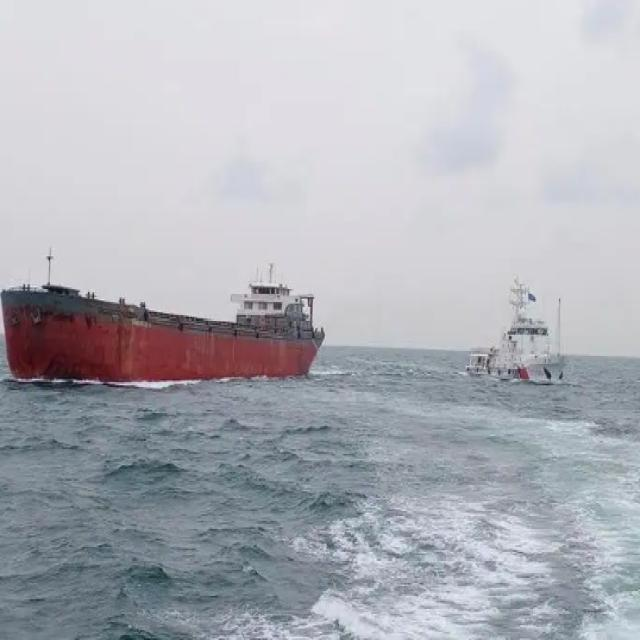cargoship: (0, 263, 326, 384)
houseboat: (466, 284, 577, 389)
